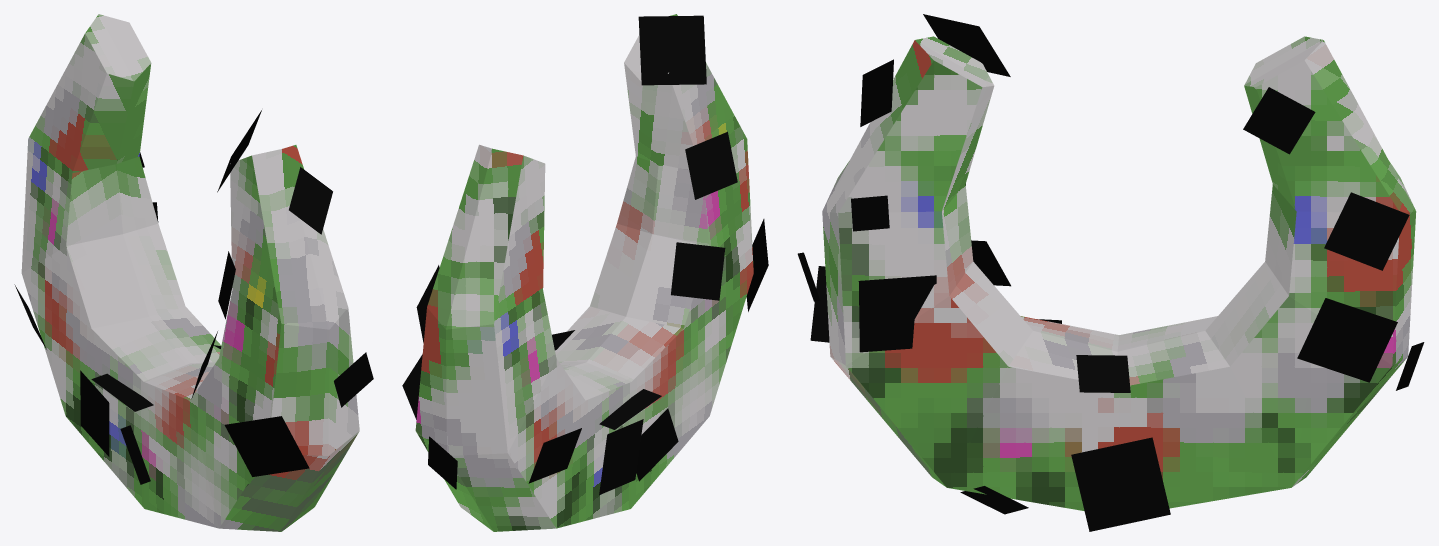
File: wrt.glb
3 views of the same model, side by side, from view 1: azimuth 30°, elevation 25°; view 2: azimuth 150°, elevation 25°; view 3: azimuth 270°, elevation 25° (orthographic). The views are drawn at different scales.
Parts seen in each view (by area): view 1: wre; view 2: wre; view 3: wre.
Boxes of the visible parts, x1,y1,x2,y2 form: wre: (14, 14, 373, 531); wre: (402, 14, 768, 531); wre: (797, 14, 1424, 531).
Size of the model in its own units: 0.2431 by 0.64 by 0.7366.
2 materials, 2 textured.
